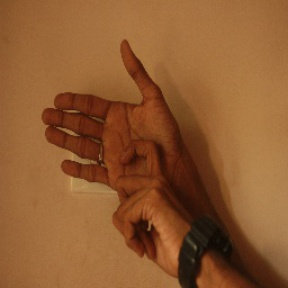R: (44, 31, 185, 255)
